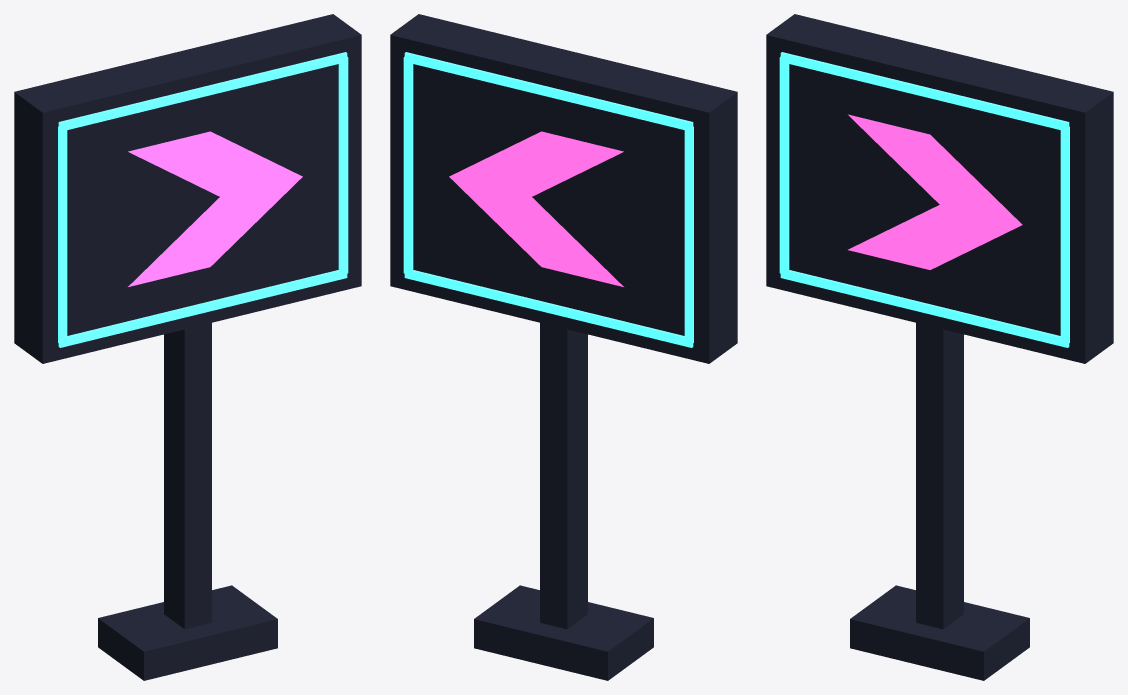
The model's file is neon-billboard.glb.
3 renders of one model, left to right at view 1: azimuth 30°, elevation 25°; view 2: azimuth 150°, elevation 25°; view 3: azimuth 330°, elevation 25°, orthographic.
Parts seen in each view (by area): view 1: neon_billboard; view 2: neon_billboard; view 3: neon_billboard.
Part boxes in pixels (x1,y1,x2,y2): neon_billboard: (14,14,361,680); neon_billboard: (390,14,737,680); neon_billboard: (766,14,1113,680).
Bounding box in the file's own units: 2 × 3.5 × 0.5.
